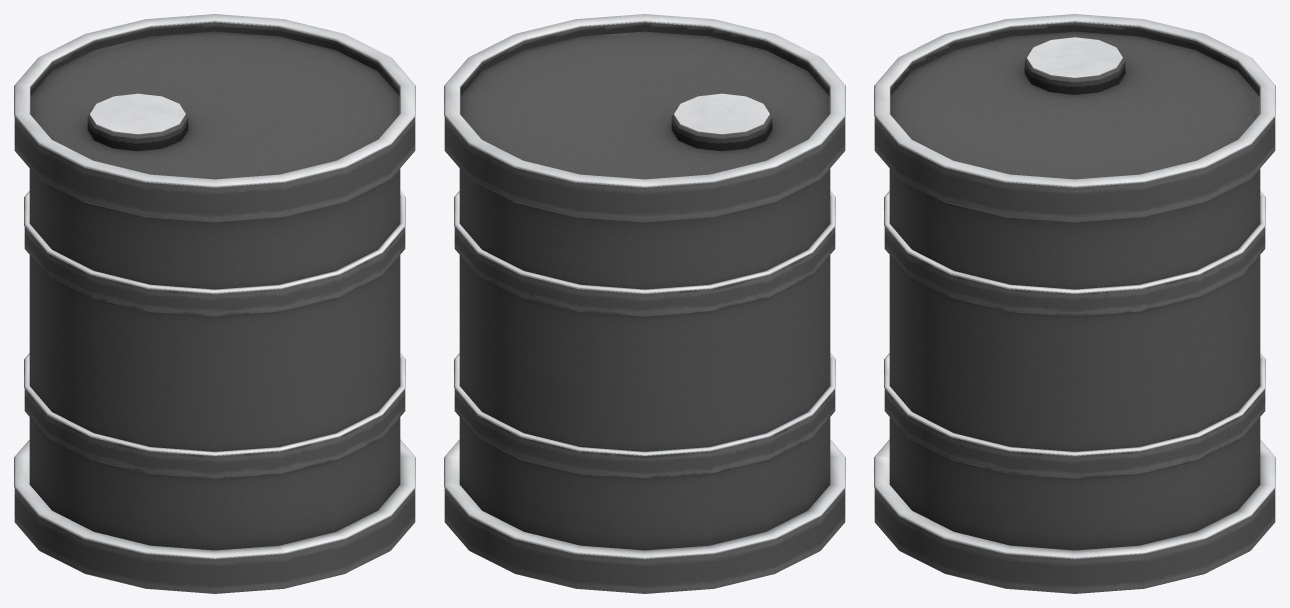
Rendered from Barrel.fbx.
The picture shows the model from 3 angles, left to right: view 1: azimuth 30°, elevation 25°; view 2: azimuth 150°, elevation 25°; view 3: azimuth 270°, elevation 25°; orthographic projection.
Visible parts, largest first — view 1: Barrel; view 2: Barrel; view 3: Barrel.
Part boxes in pixels (x1,y1,x2,y2): Barrel: (14,14,415,593); Barrel: (444,14,845,593); Barrel: (874,14,1275,593).
Size of the model in its own units: 79.24 by 88.63 by 78.04.
